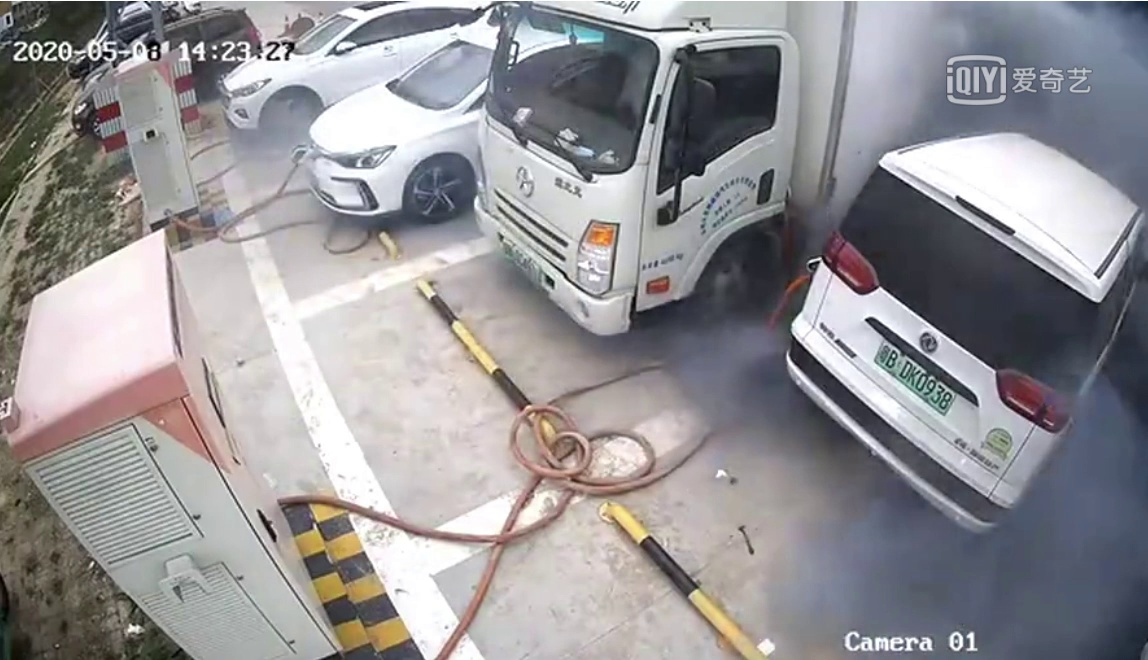smoke: (819, 452, 1138, 652)
